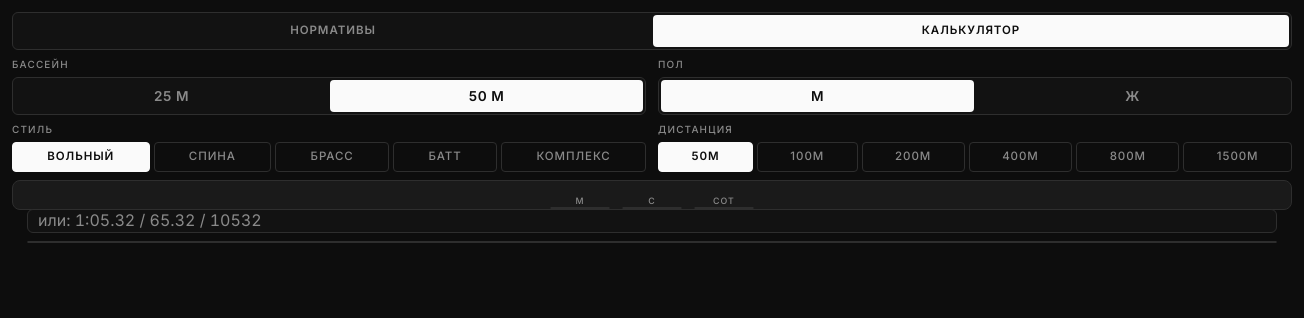
Test: a time that is still being typed › lets no letter into the field
Type "2x5.2" into the field named "Время".
click(652, 221); type("2x5.2")  # box x1=27 y1=209 x2=1277 y2=233
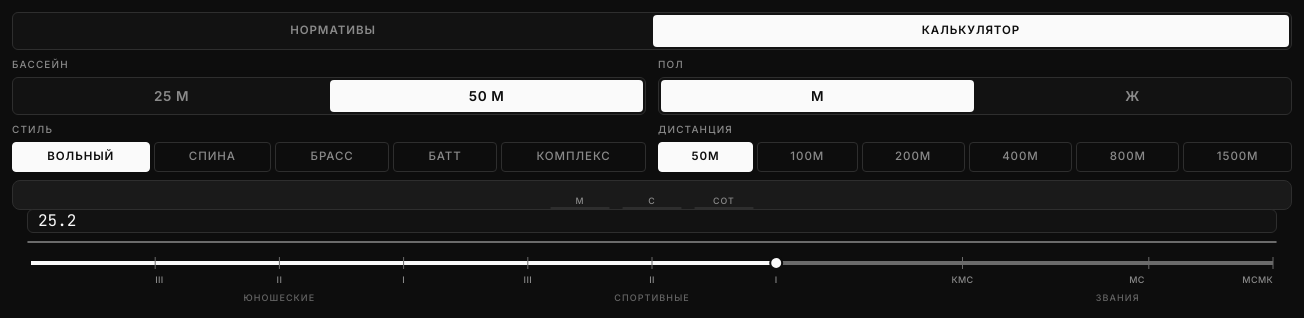
Now the field named "Время" holds "25.2", box x1=27 y1=209 x2=1277 y2=233
